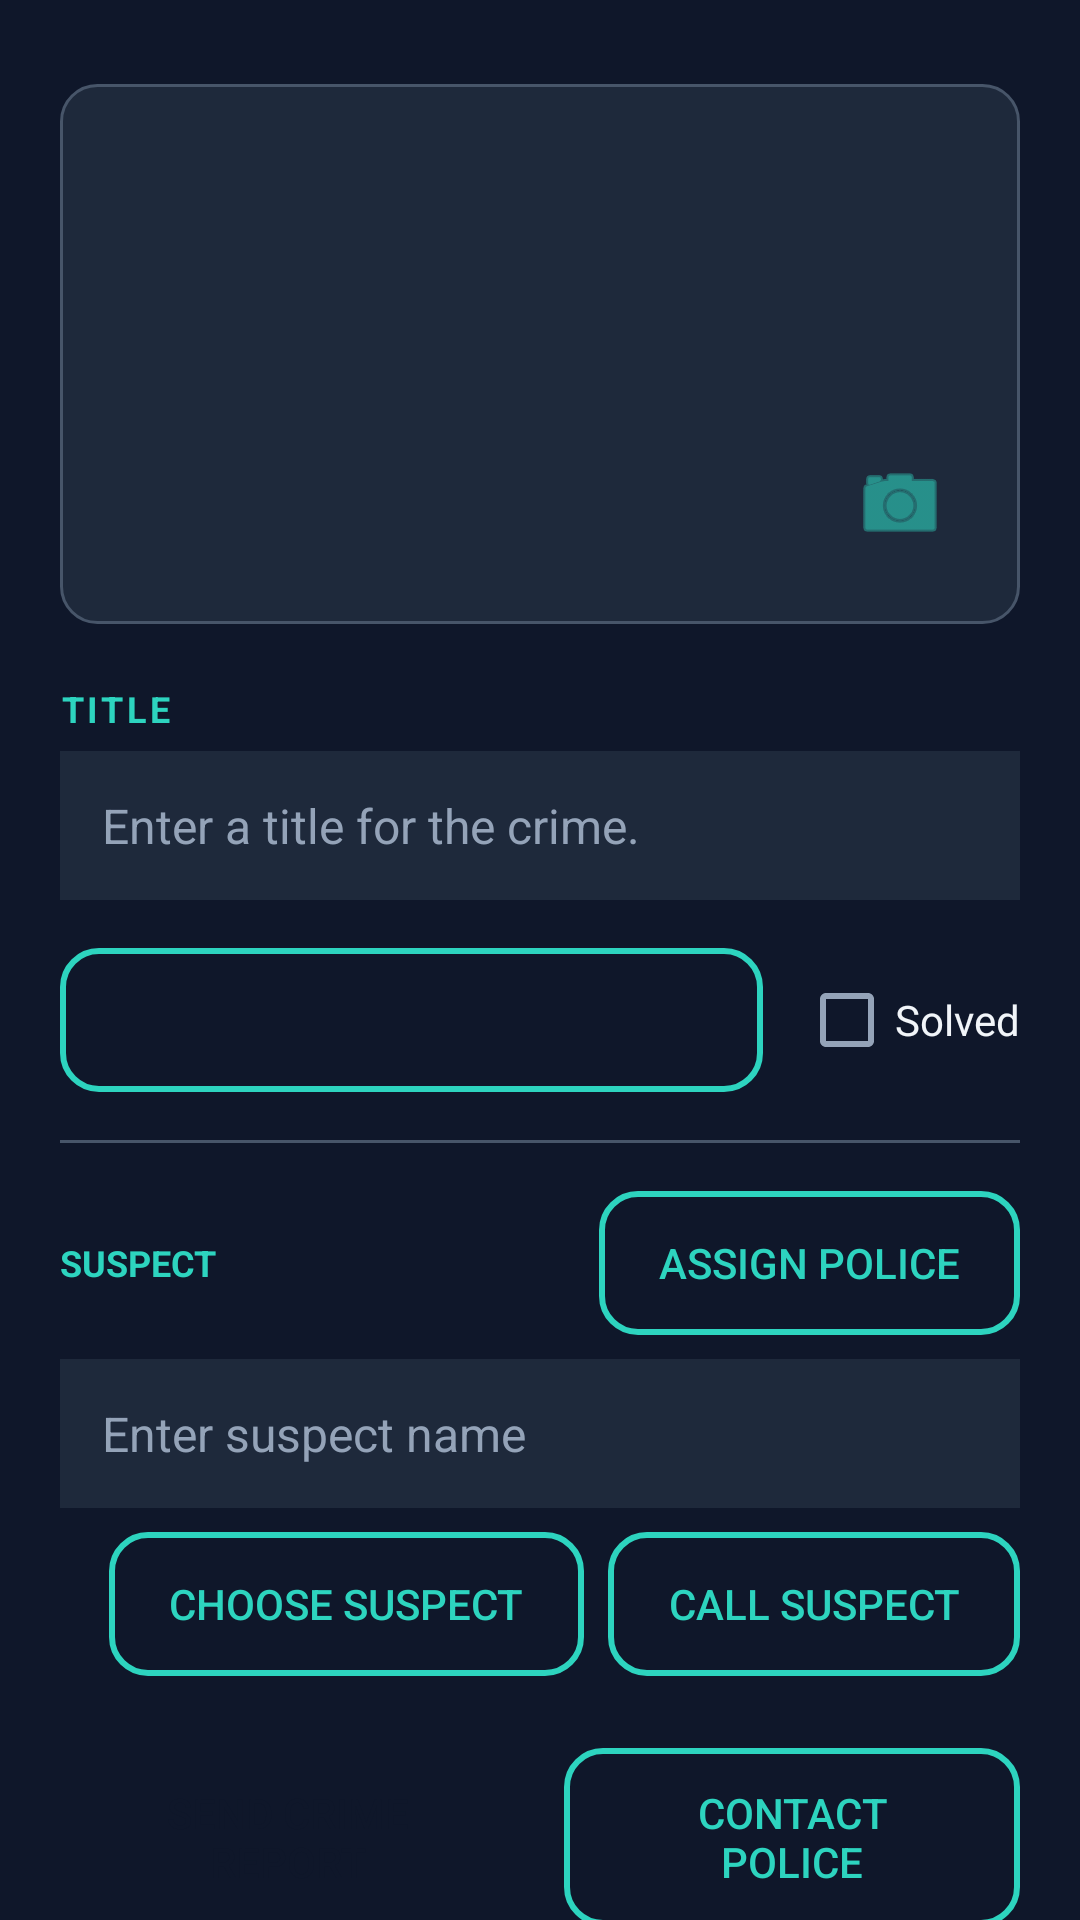

Named icons in this screenshot (1080px×1920px) and their bounding boxes, (x1, y1, x2, y2):
Take Photo: (863, 473, 937, 532)
